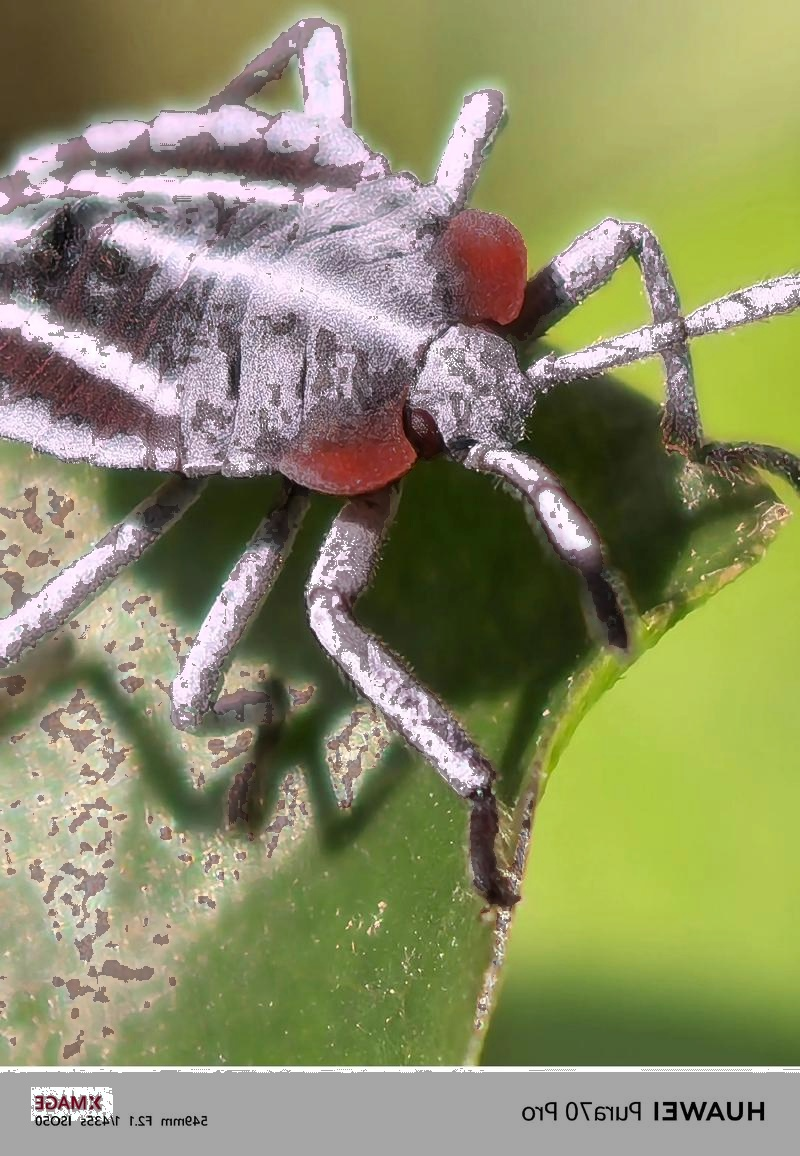Stink_Bug: (50, 82, 576, 569)
